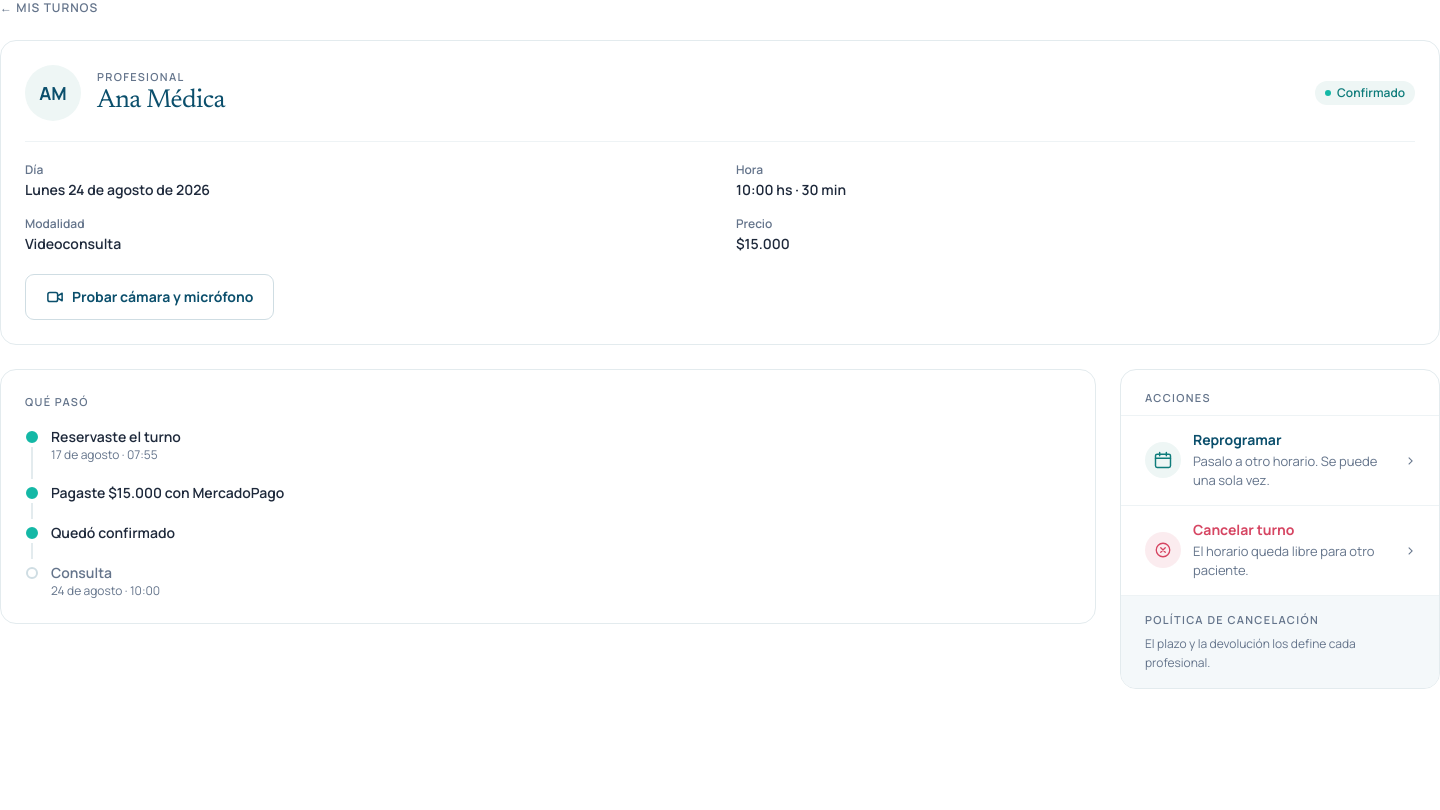
AppointmentDetail (ENG-178) › cancelar abre el modal
Click the button "Cancelar turno" at (1280, 550), box x1=1121 y1=506 x2=1439 y2=594
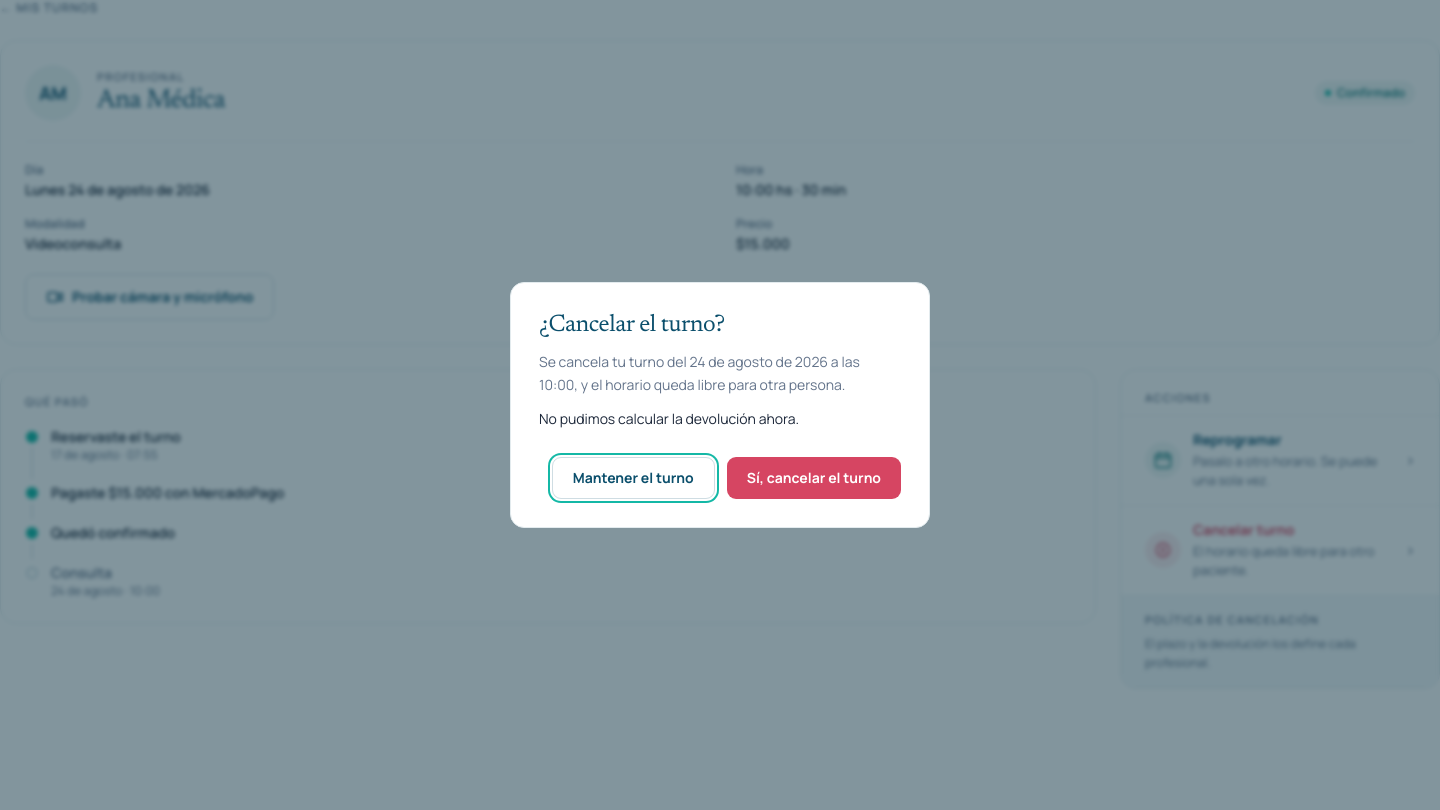
Expected: the dialog "¿Cancelar el turno?" is shown, x1=510 y1=282 x2=930 y2=528
